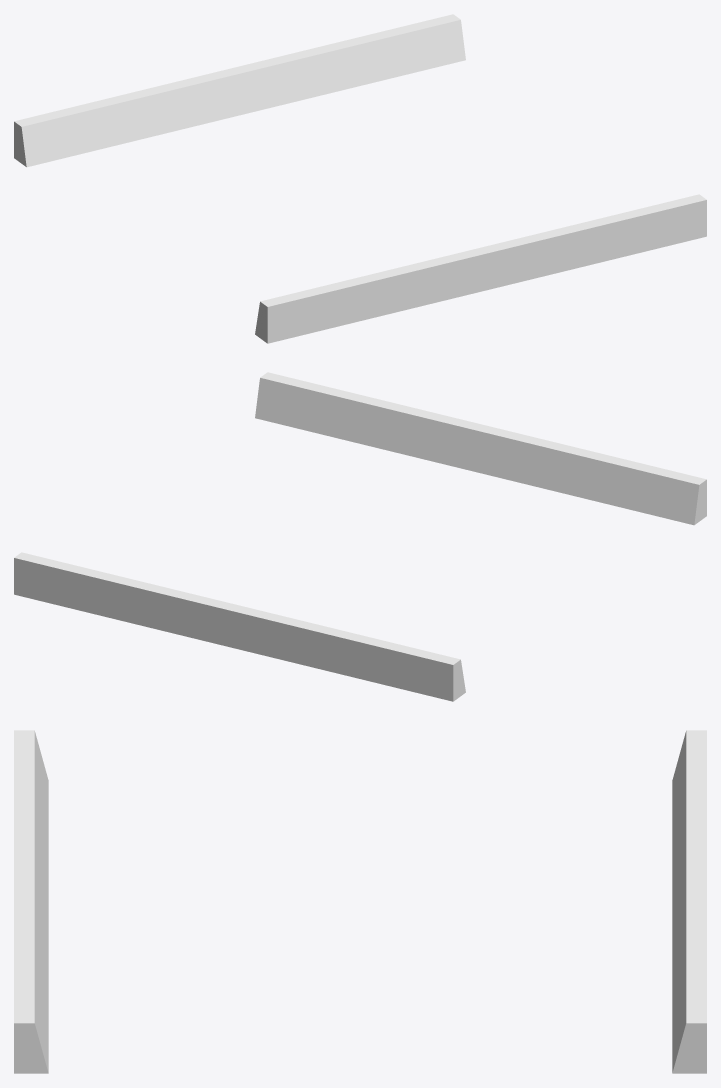
File: kenney-city-roads-road-straight-barrier.glb
3 views of the same model, one above another, from view 1: azimuth 30°, elevation 25°; view 2: azimuth 150°, elevation 25°; view 3: azimuth 270°, elevation 25° (orthographic). The views are drawn at different scales.
Visible parts, largest first — view 1: road-straight-barrier; view 2: road-straight-barrier; view 3: road-straight-barrier.
Part boxes in pixels (<box>): road-straight-barrier: <box>14,14,706,343</box>; road-straight-barrier: <box>14,372,706,701</box>; road-straight-barrier: <box>14,730,706,1073</box>.
Bounding box in the file's own units: 1 × 0.08 × 1.
1 material, 1 textured.
